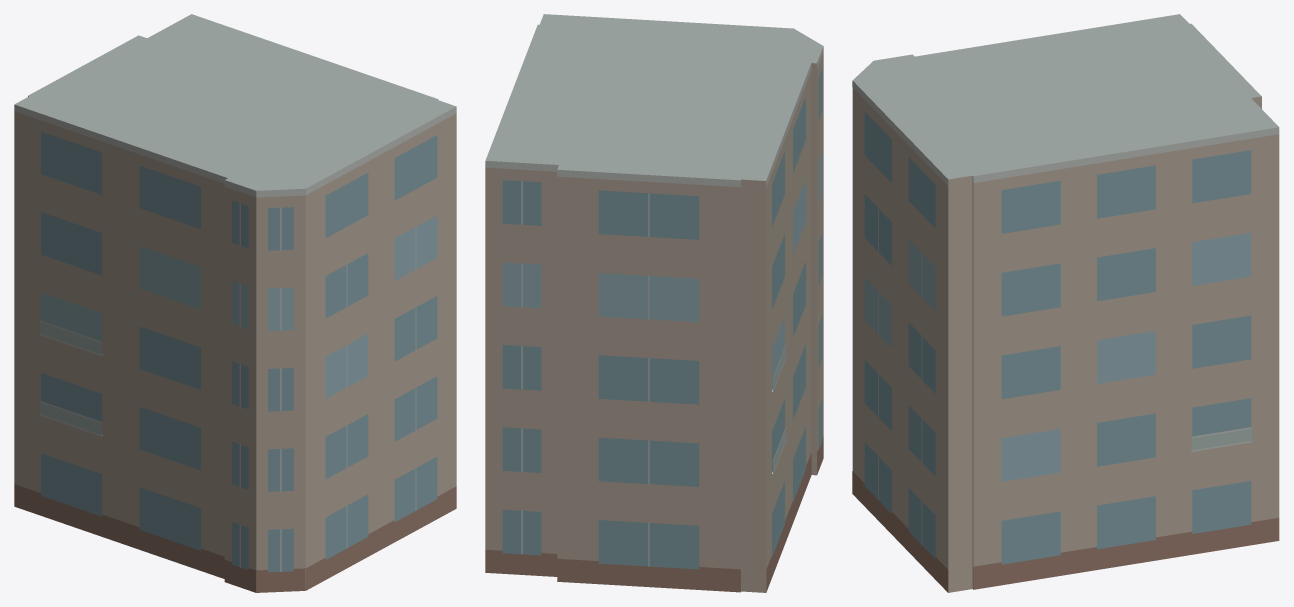
File: survey-upis-33028907.glb
3 renders of one model, left to right at view 1: azimuth 30°, elevation 25°; view 2: azimuth 150°, elevation 25°; view 3: azimuth 270°, elevation 25°, orthographic. The views are drawn at different scales.
Visible parts, largest first — view 1: survey-upis-33028907.tmp; view 2: survey-upis-33028907.tmp; view 3: survey-upis-33028907.tmp.
Boxes of the visible parts, x1,y1,x2,y2 form: survey-upis-33028907.tmp: (14,14,456,592); survey-upis-33028907.tmp: (485,14,823,592); survey-upis-33028907.tmp: (852,14,1279,592).
Bounding box in the file's own units: 12.62 × 14.7 × 13.77.
